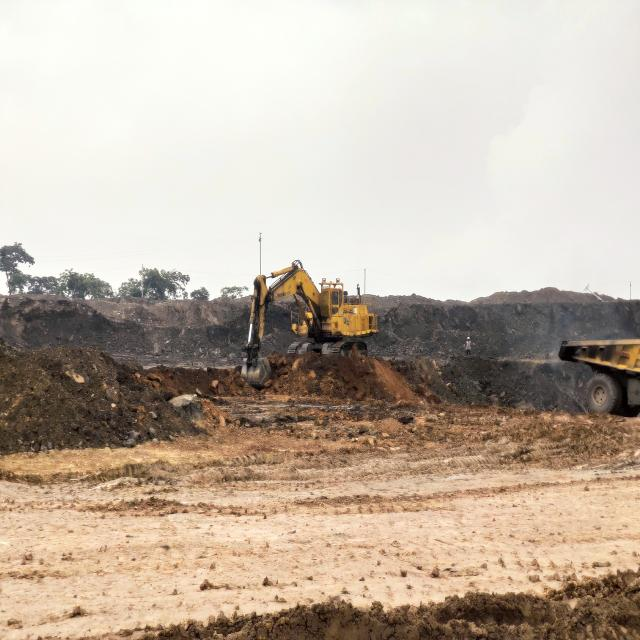dump_truck: (556, 336, 640, 417)
excavator: (241, 265, 381, 390)
